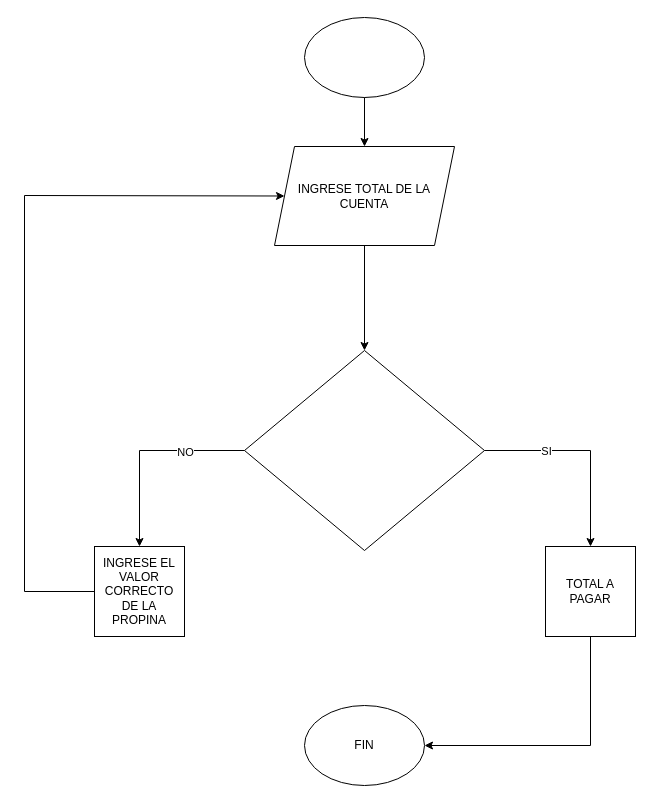
Some shapes in this 653 by 803 pixel diagram are drawn without their labels. The centre of each missing label's shape, as x and y in pixels:
INICIO: the point at 364,57
LA PROPINA ES DE 10, 15 Ó 20: the point at 364,450
